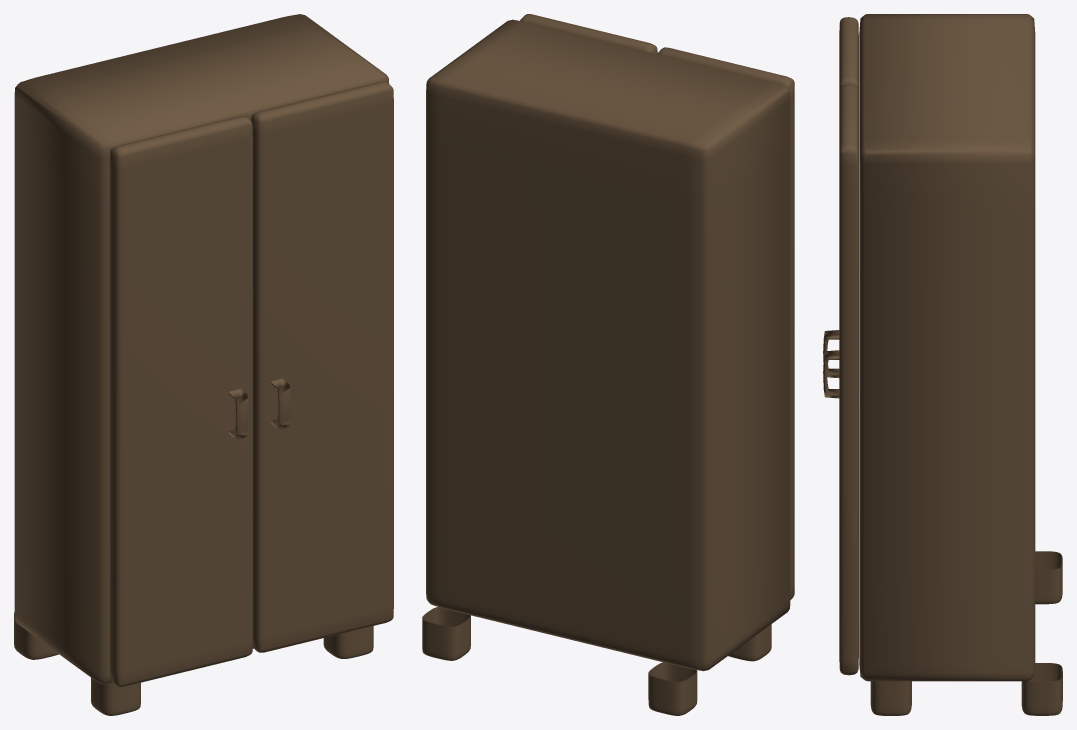
File: Wardrobe.fbx
3 views of the same model, side by side, from view 1: azimuth 30°, elevation 25°; view 2: azimuth 150°, elevation 25°; view 3: azimuth 270°, elevation 25° (orthographic). The views are drawn at different scales.
Visible parts, largest first — view 1: Wardrobe; view 2: Wardrobe; view 3: Wardrobe.
Boxes of the visible parts, x1,y1,x2,y2 form: Wardrobe: [14, 14, 393, 715]; Wardrobe: [422, 14, 794, 715]; Wardrobe: [823, 14, 1062, 715].
Bounding box in the file's own units: 109 × 208 × 78.88.
